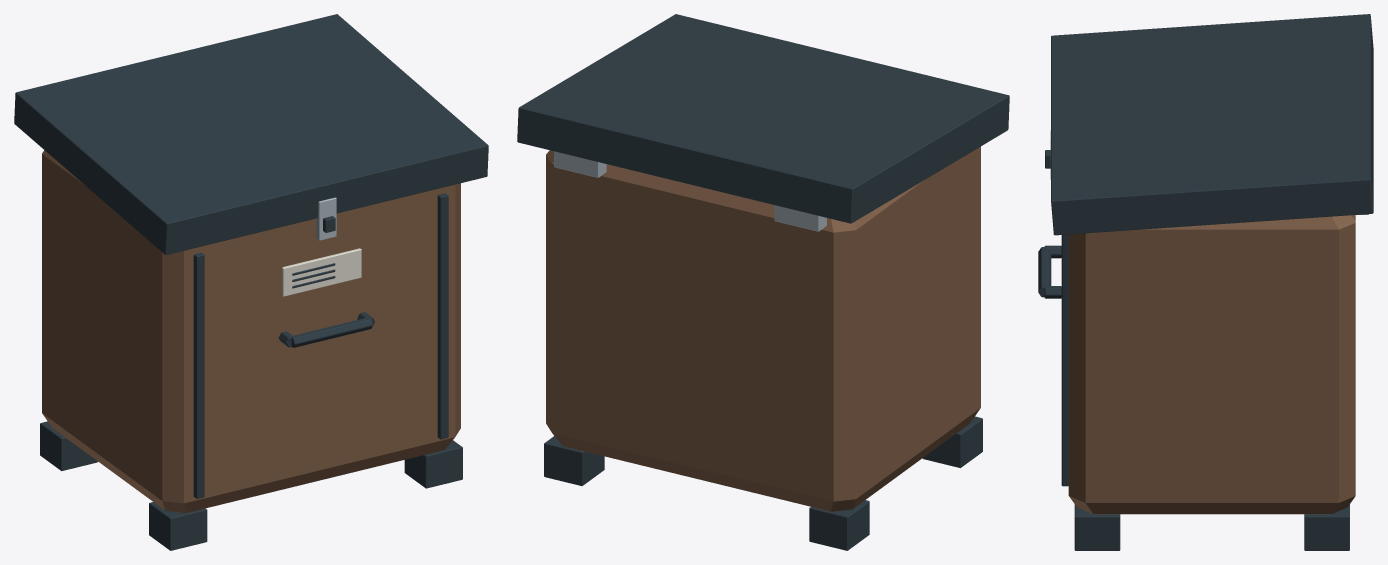
The model's file is b14_home_delivery_lock_chest.glb.
3 views of the same model, side by side, from view 1: azimuth 30°, elevation 25°; view 2: azimuth 150°, elevation 25°; view 3: azimuth 270°, elevation 25° (orthographic). The views are drawn at different scales.
Parts seen in each view (by area): view 1: b14_home_delivery_lock_chest; view 2: b14_home_delivery_lock_chest; view 3: b14_home_delivery_lock_chest.
Part boxes in pixels (box(x1,y1,x2,y2)): b14_home_delivery_lock_chest: box(14, 14, 488, 550); b14_home_delivery_lock_chest: box(517, 14, 1009, 550); b14_home_delivery_lock_chest: box(1038, 14, 1373, 550).
Size of the model in its own units: 0.82 by 0.8749 by 0.7002.
